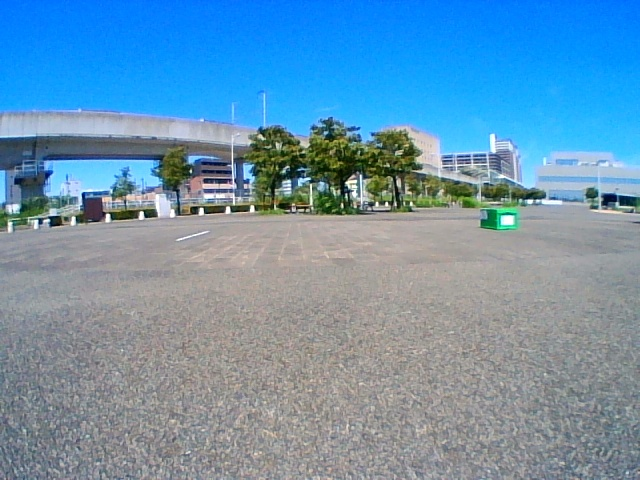green_box: (481, 208, 516, 229)
tag: (481, 209, 488, 219)
